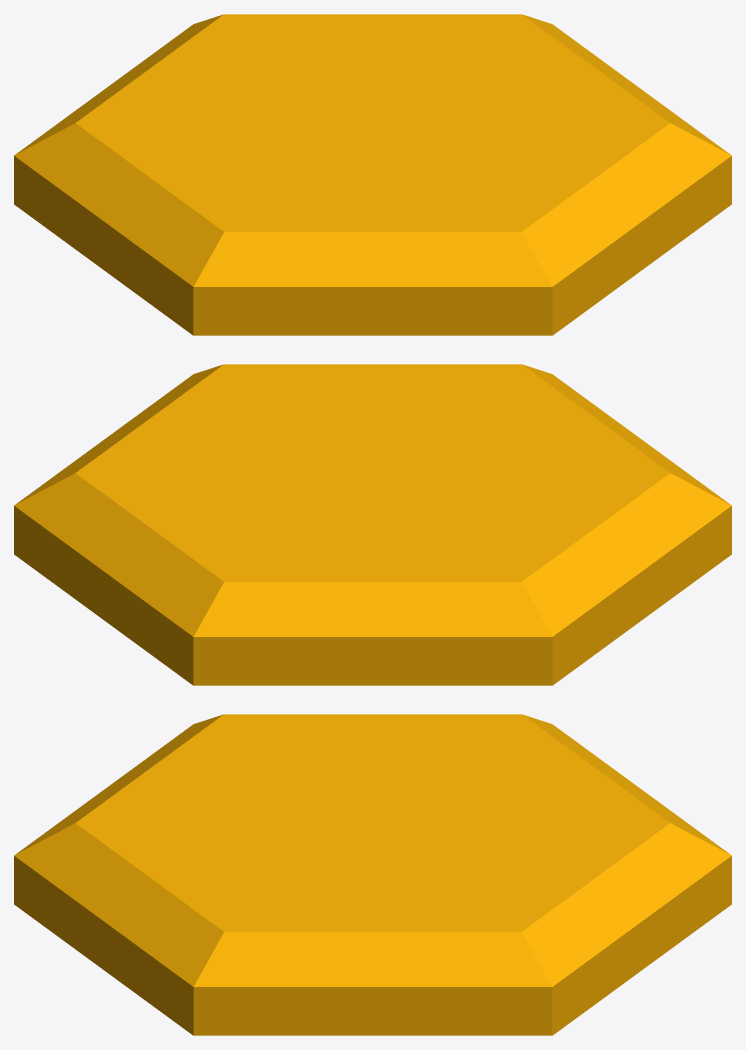
File: hexagon.glb
3 views of the same model, one above another, from view 1: azimuth 30°, elevation 25°; view 2: azimuth 150°, elevation 25°; view 3: azimuth 270°, elevation 25° (orthographic).
Visible parts, largest first — view 1: Hexagon; view 2: Hexagon; view 3: Hexagon.
Part boxes in pixels (<box>): Hexagon: <box>14,14,731,335</box>; Hexagon: <box>14,364,731,685</box>; Hexagon: <box>14,714,731,1035</box>.
Size of the model in its own units: 2.25 by 0.325 by 2.6.
